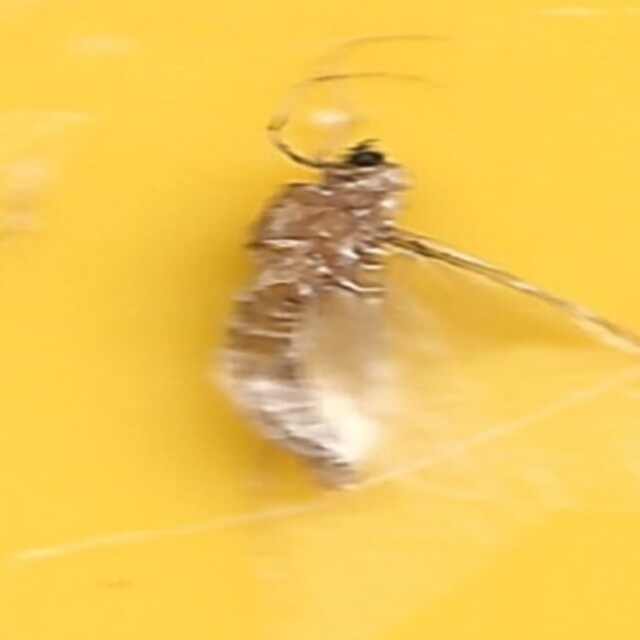Ephemeroptera: (221, 136, 419, 504)
